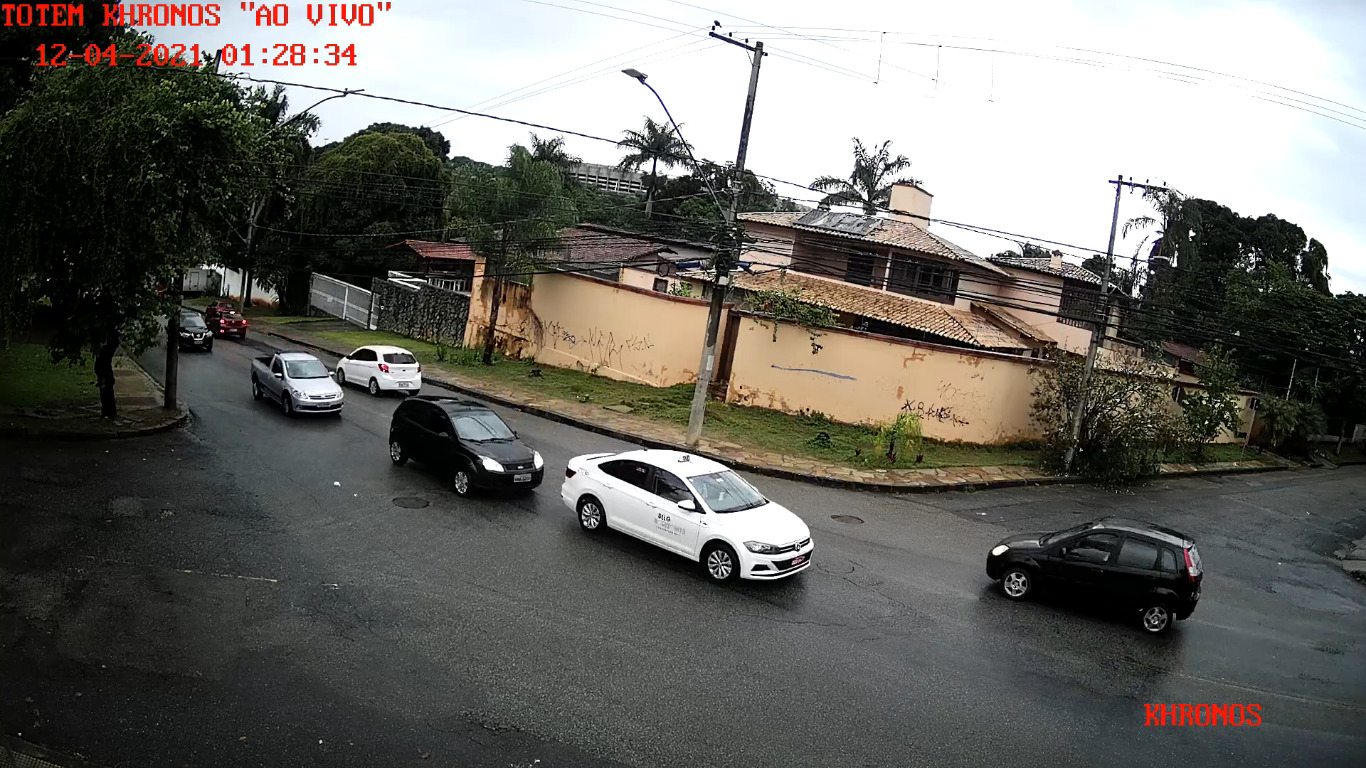car: (563, 446, 814, 584), (986, 514, 1203, 636), (388, 396, 545, 500), (250, 350, 345, 417), (337, 344, 425, 395)
